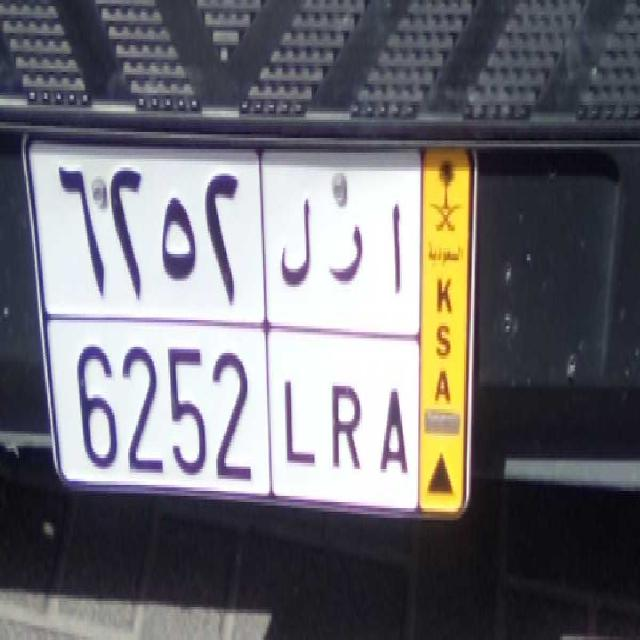license_plate: (54, 305, 414, 503)
